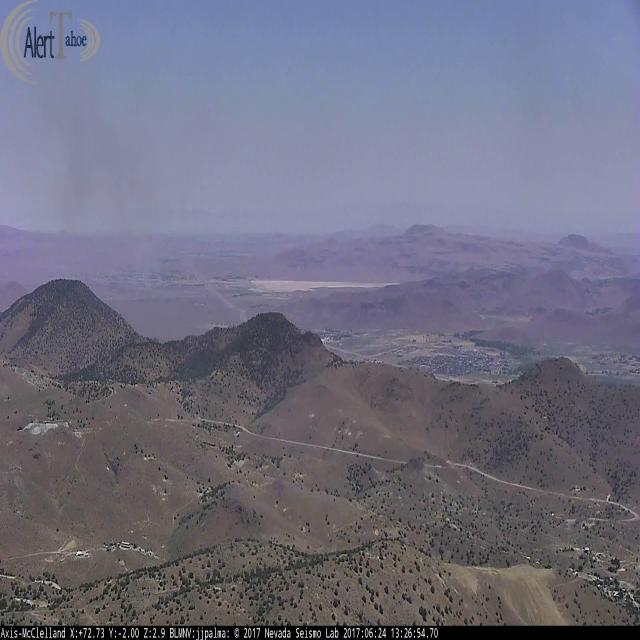smoke: (48, 74, 175, 303)
